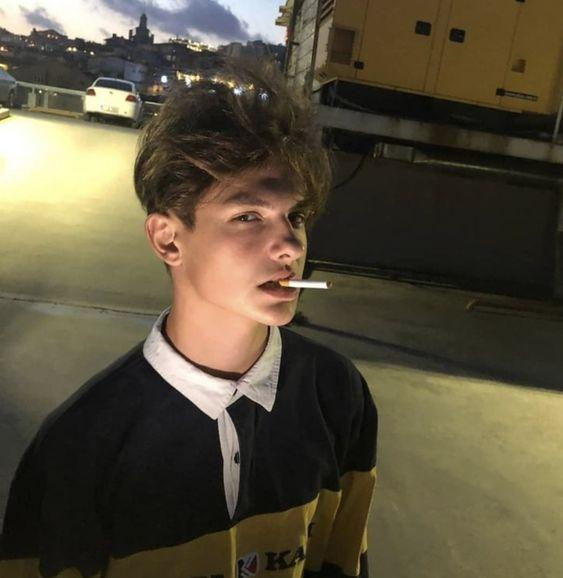cigarette: (277, 279, 334, 289)
